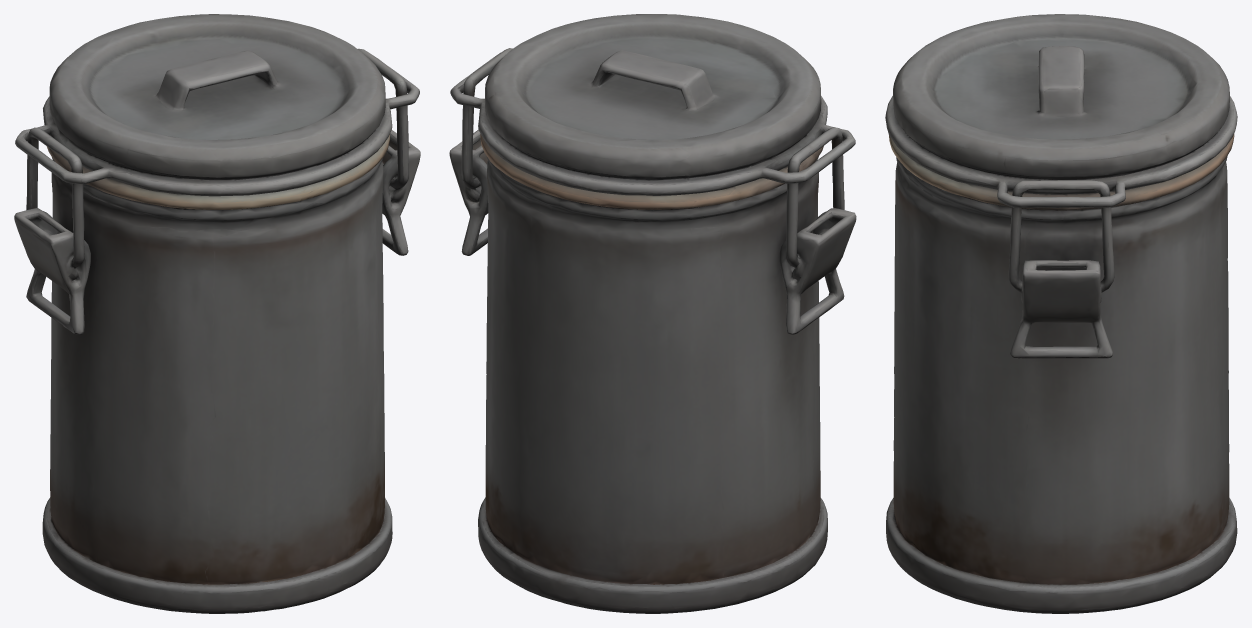
File: teakitchen_CoffeeBeanCanister.glb
The picture shows the model from 3 angles, left to right: view 1: azimuth 30°, elevation 25°; view 2: azimuth 150°, elevation 25°; view 3: azimuth 270°, elevation 25°; orthographic projection.
Visible parts, largest first — view 1: world; view 2: world; view 3: world.
Part boxes in pixels (x1,y1,x2,y2): world: [14, 14, 420, 613]; world: [449, 14, 856, 613]; world: [885, 14, 1237, 613].
Size of the model in its own units: 0.8151 by 1 by 0.6693.
Materials: 1 (1 with a texture image).
